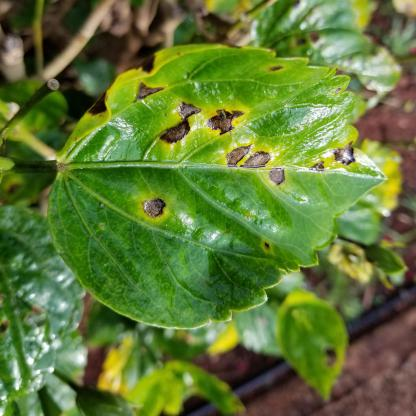Tomato leaf bacterial spot: (48, 41, 391, 334)
